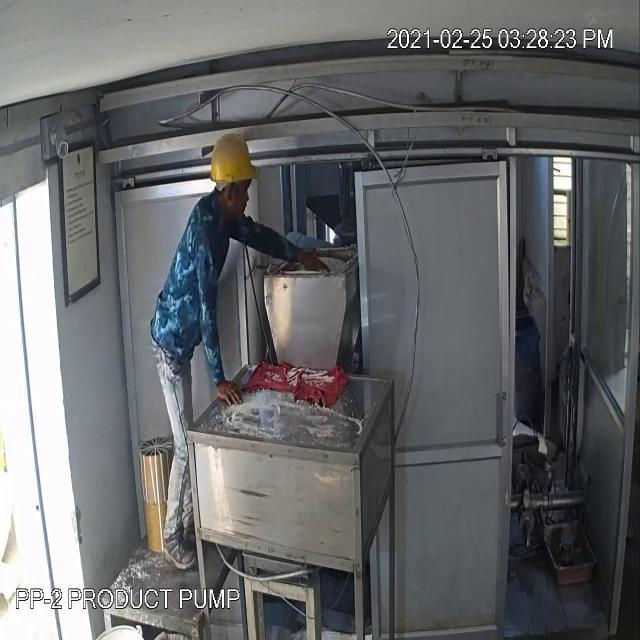helmet: (206, 129, 258, 194)
